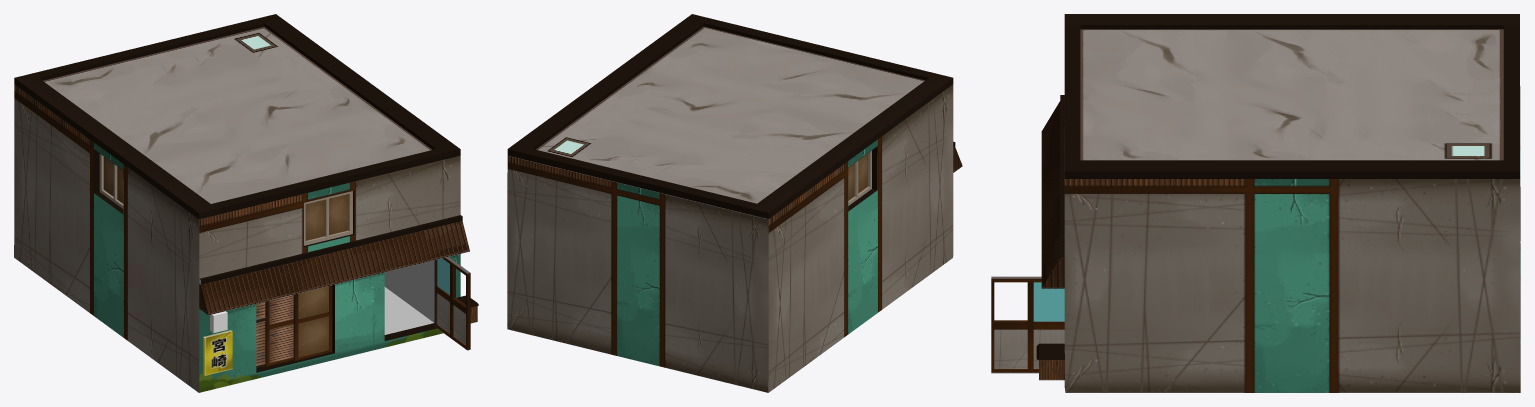
Rendered from House_Miyazaki.fbx.
The picture shows the model from 3 angles, left to right: view 1: azimuth 30°, elevation 25°; view 2: azimuth 150°, elevation 25°; view 3: azimuth 270°, elevation 25°; orthographic projection. The views are drawn at different scales.
Visible parts, largest first — view 1: Cube.183, Cube.179, Cube.163, Cube.152, Cube.164, Cube.182, Cube.162, Cube.184; view 2: Cube.183, Cube.162; view 3: Cube.183, Cube.163, Cube.180.
Part boxes in pixels (left/top/right/bottom): Cube.183: left=14, top=14, right=469, bottom=392; Cube.179: left=293, top=285, right=332, bottom=360; Cube.163: left=435, top=257, right=470, bottom=350; Cube.152: left=304, top=191, right=352, bottom=245; Cube.164: left=265, top=294, right=293, bottom=366; Cube.182: left=203, top=330, right=232, bottom=375; Cube.162: left=99, top=153, right=123, bottom=208; Cube.184: left=256, top=301, right=265, bottom=367; Cube.183: left=507, top=14, right=962, bottom=392; Cube.162: left=848, top=150, right=871, bottom=205; Cube.183: left=1041, top=14, right=1520, bottom=392; Cube.163: left=991, top=276, right=1064, bottom=373; Cube.180: left=1036, top=343, right=1064, bottom=380.
Size of the model in its own units: 893 by 571 by 1234.
